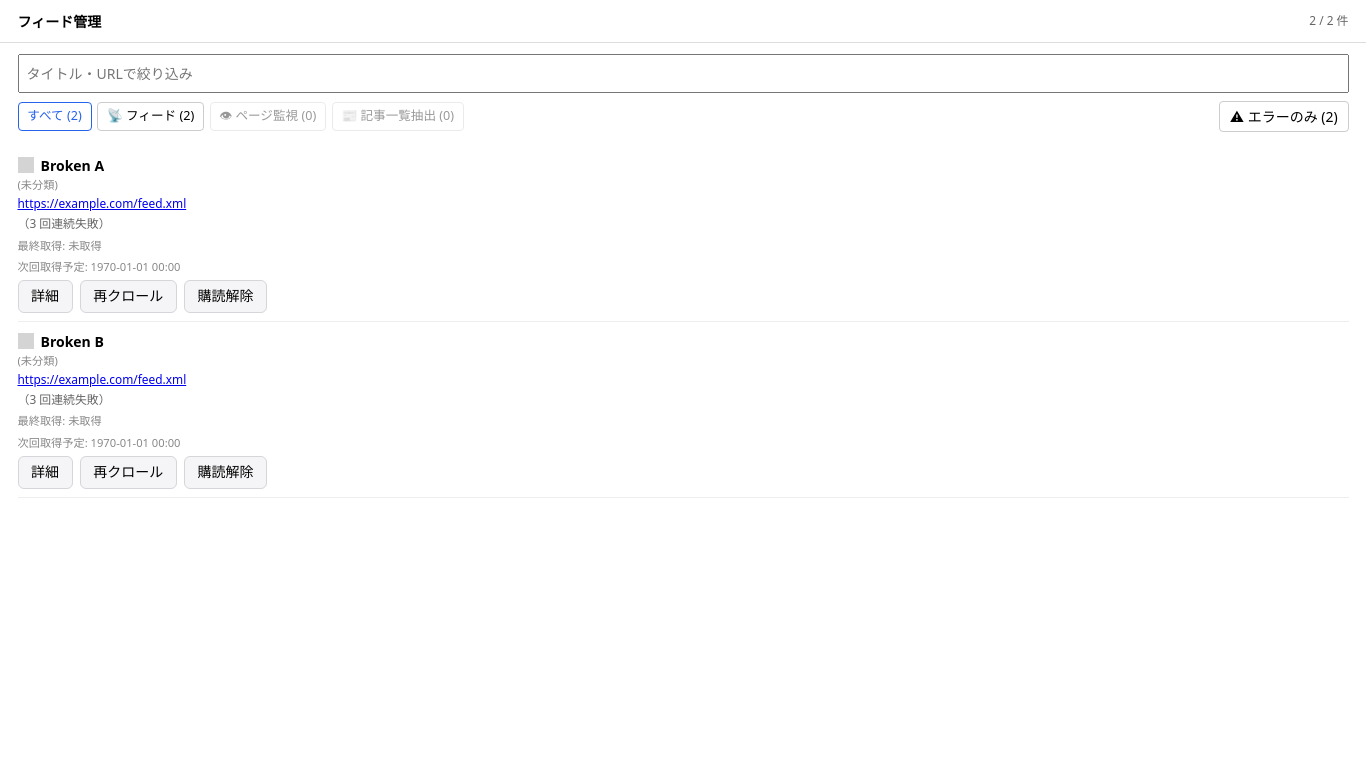
Test case: FeedManagerPane selection across filter changes › unchecking select-all only clears the currently filtered rows
Step 1. Click the button "⚠ エラーのみ (2)" → (1284, 117), box top-left (1219, 101), bottom-right (1348, 132)
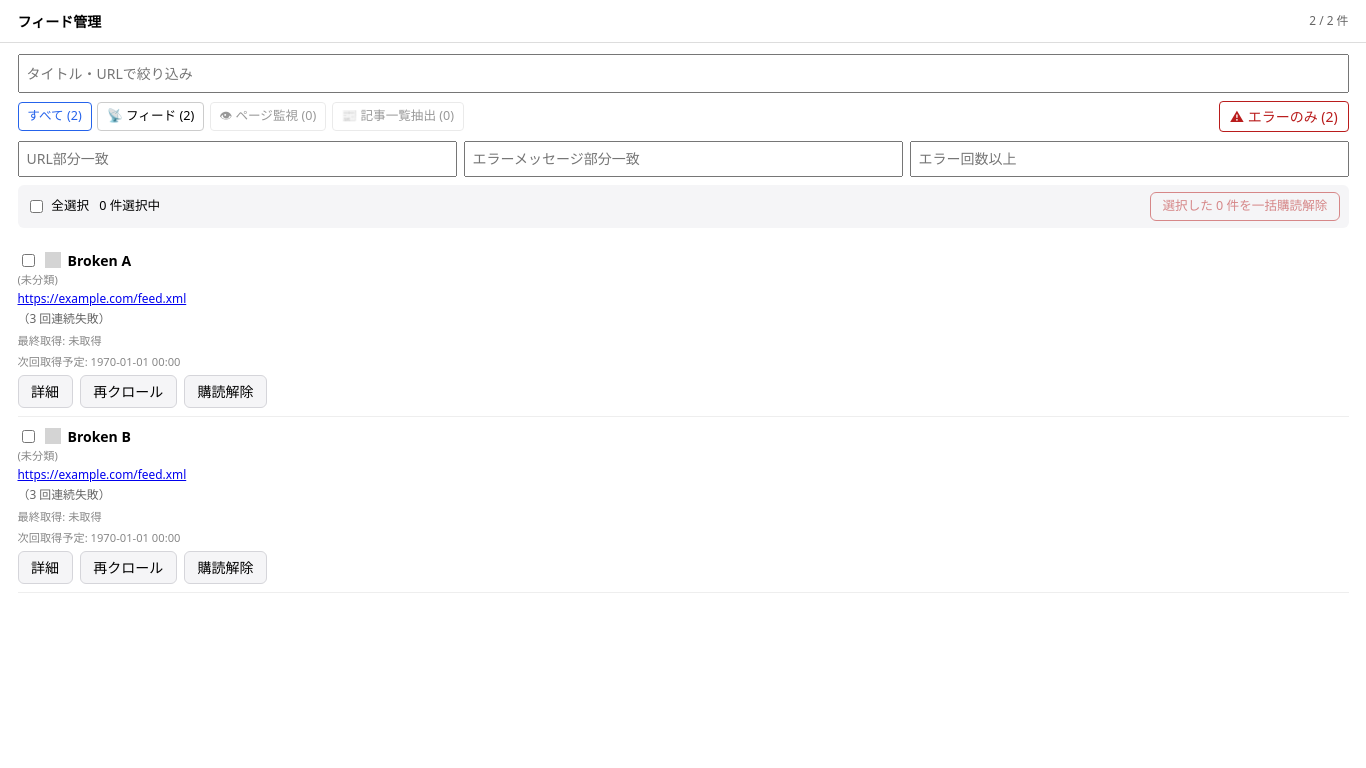
Step 2. Click the checkbox labelled "全選択" → (37, 206), box top-left (30, 200), bottom-right (43, 213)
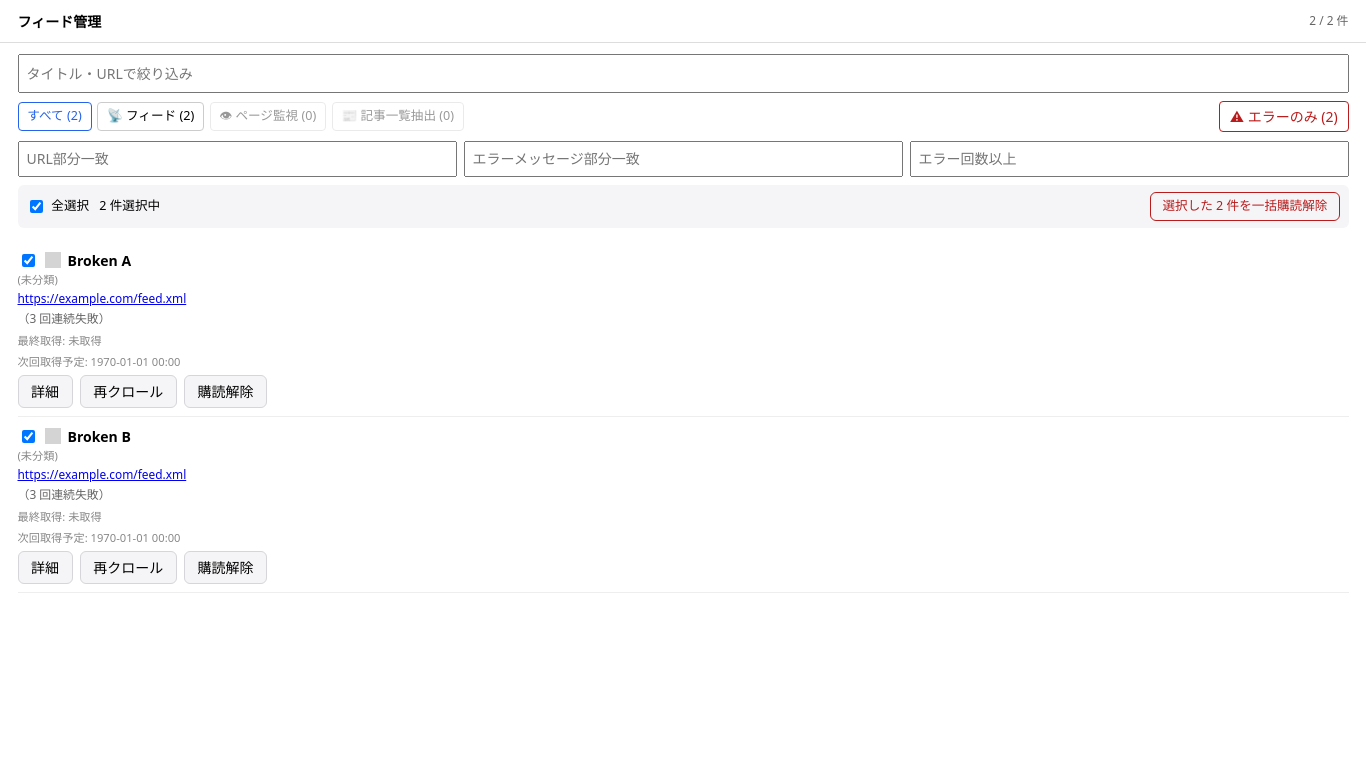
Step 3. Type "Broken A" into the field with placeholder "タイトル・URLで絞り込み" → (683, 73), box top-left (18, 54), bottom-right (1348, 92)
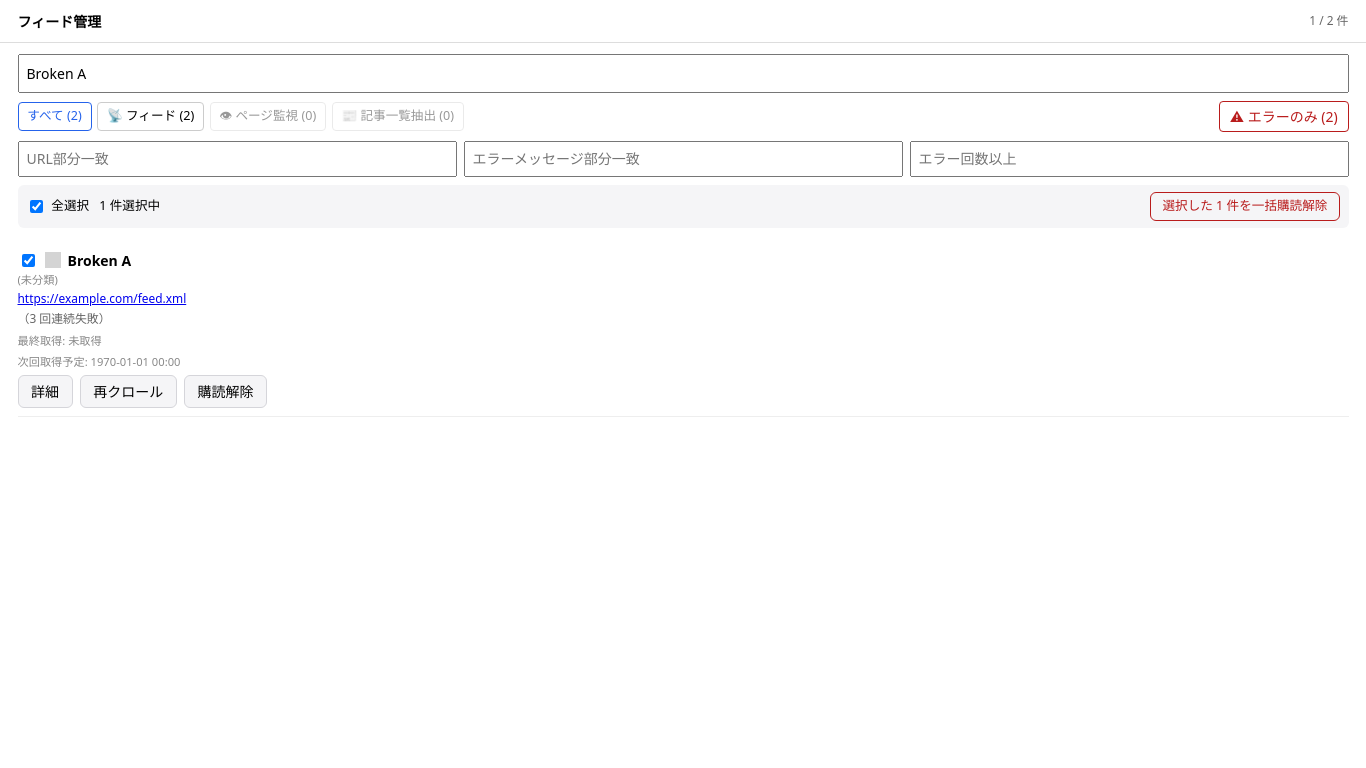
Step 4. Click the checkbox labelled "全選択" → (37, 206), box top-left (30, 200), bottom-right (43, 213)
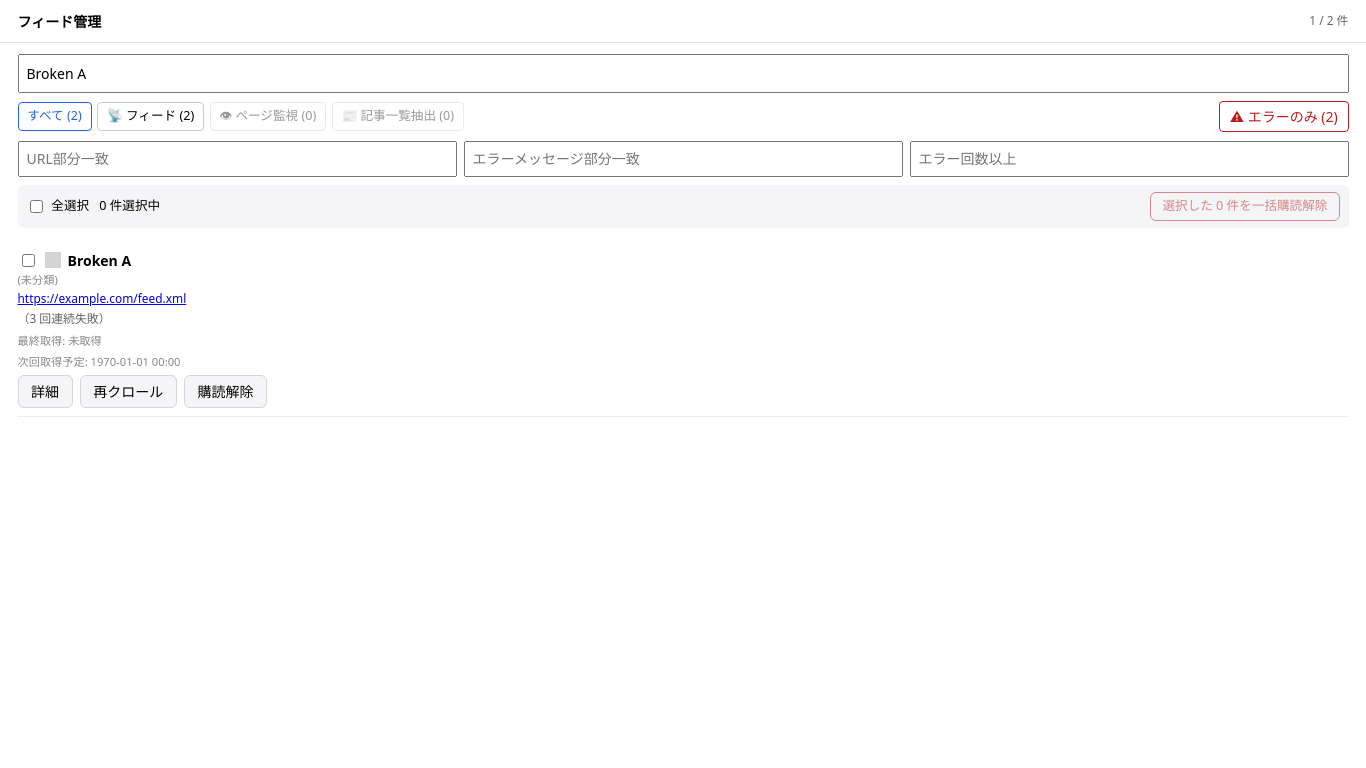
Now the text "0 件選択中" is shown, box top-left (99, 197), bottom-right (160, 216)
Step 5. Clear the field with placeholder "タイトル・URLで絞り込み" → (683, 73), box top-left (18, 54), bottom-right (1348, 92)
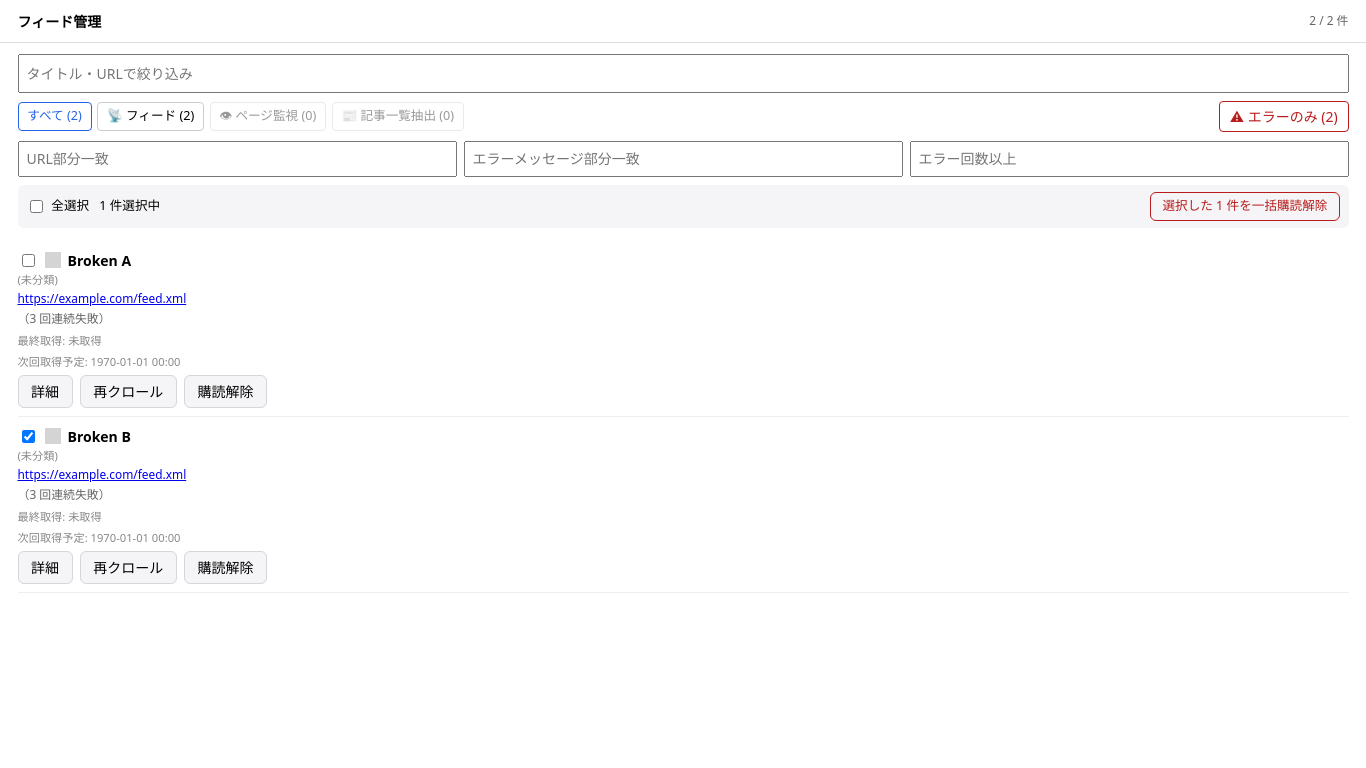
Now the text "1 件選択中" is shown, box top-left (99, 197), bottom-right (160, 216)
